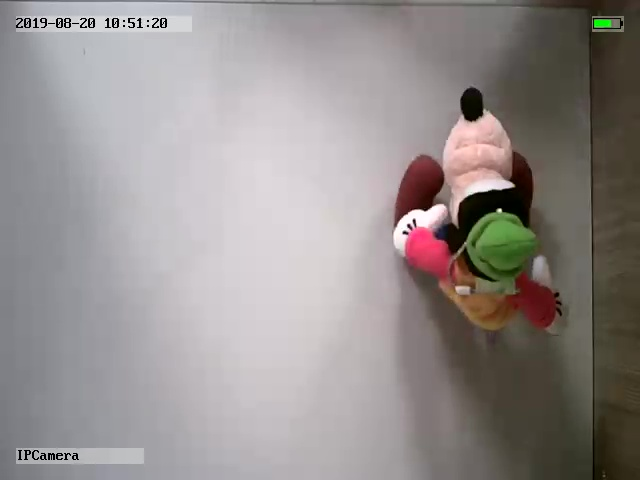goofy: (392, 86, 571, 337)
